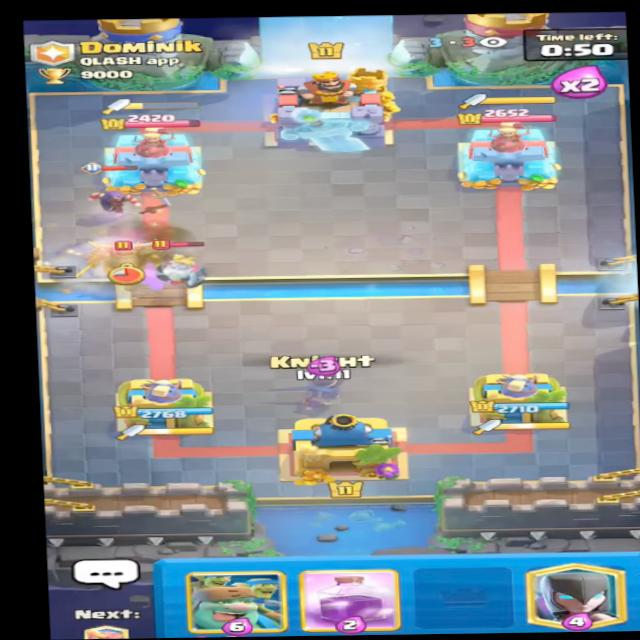Evowizard: (82, 160, 146, 221)
Pekka: (76, 235, 165, 286)
Royalghost: (144, 240, 221, 291)
